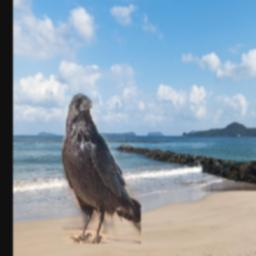Crow: (63, 94, 142, 245)
